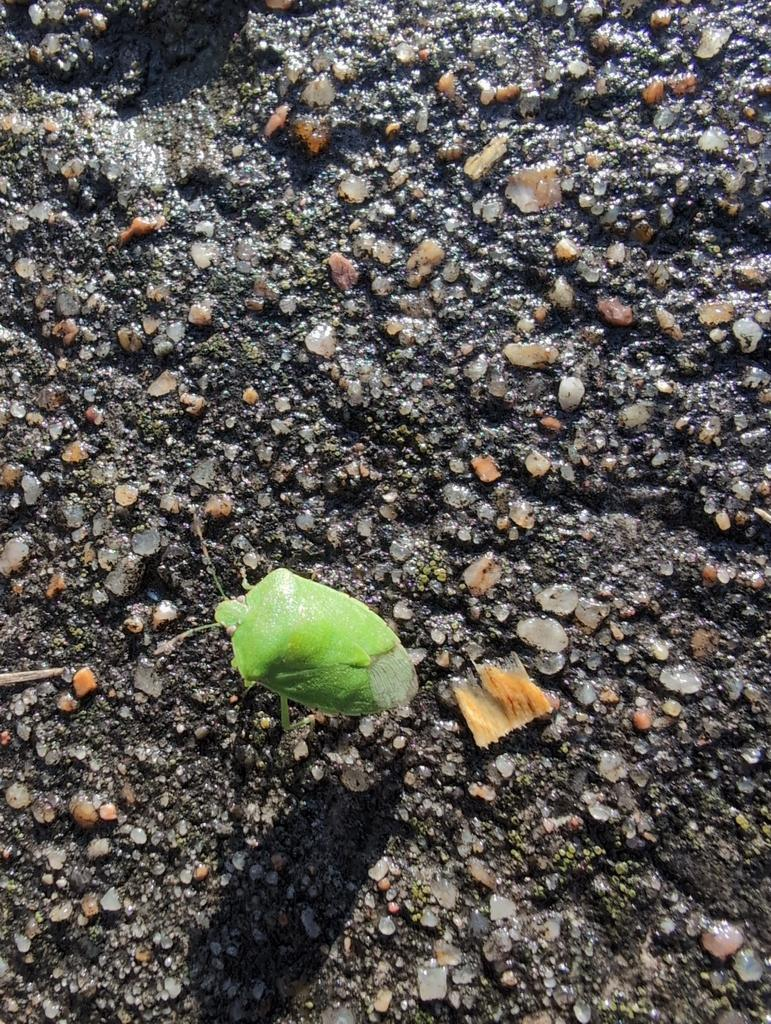stink_bugs: (123, 482, 491, 798)
